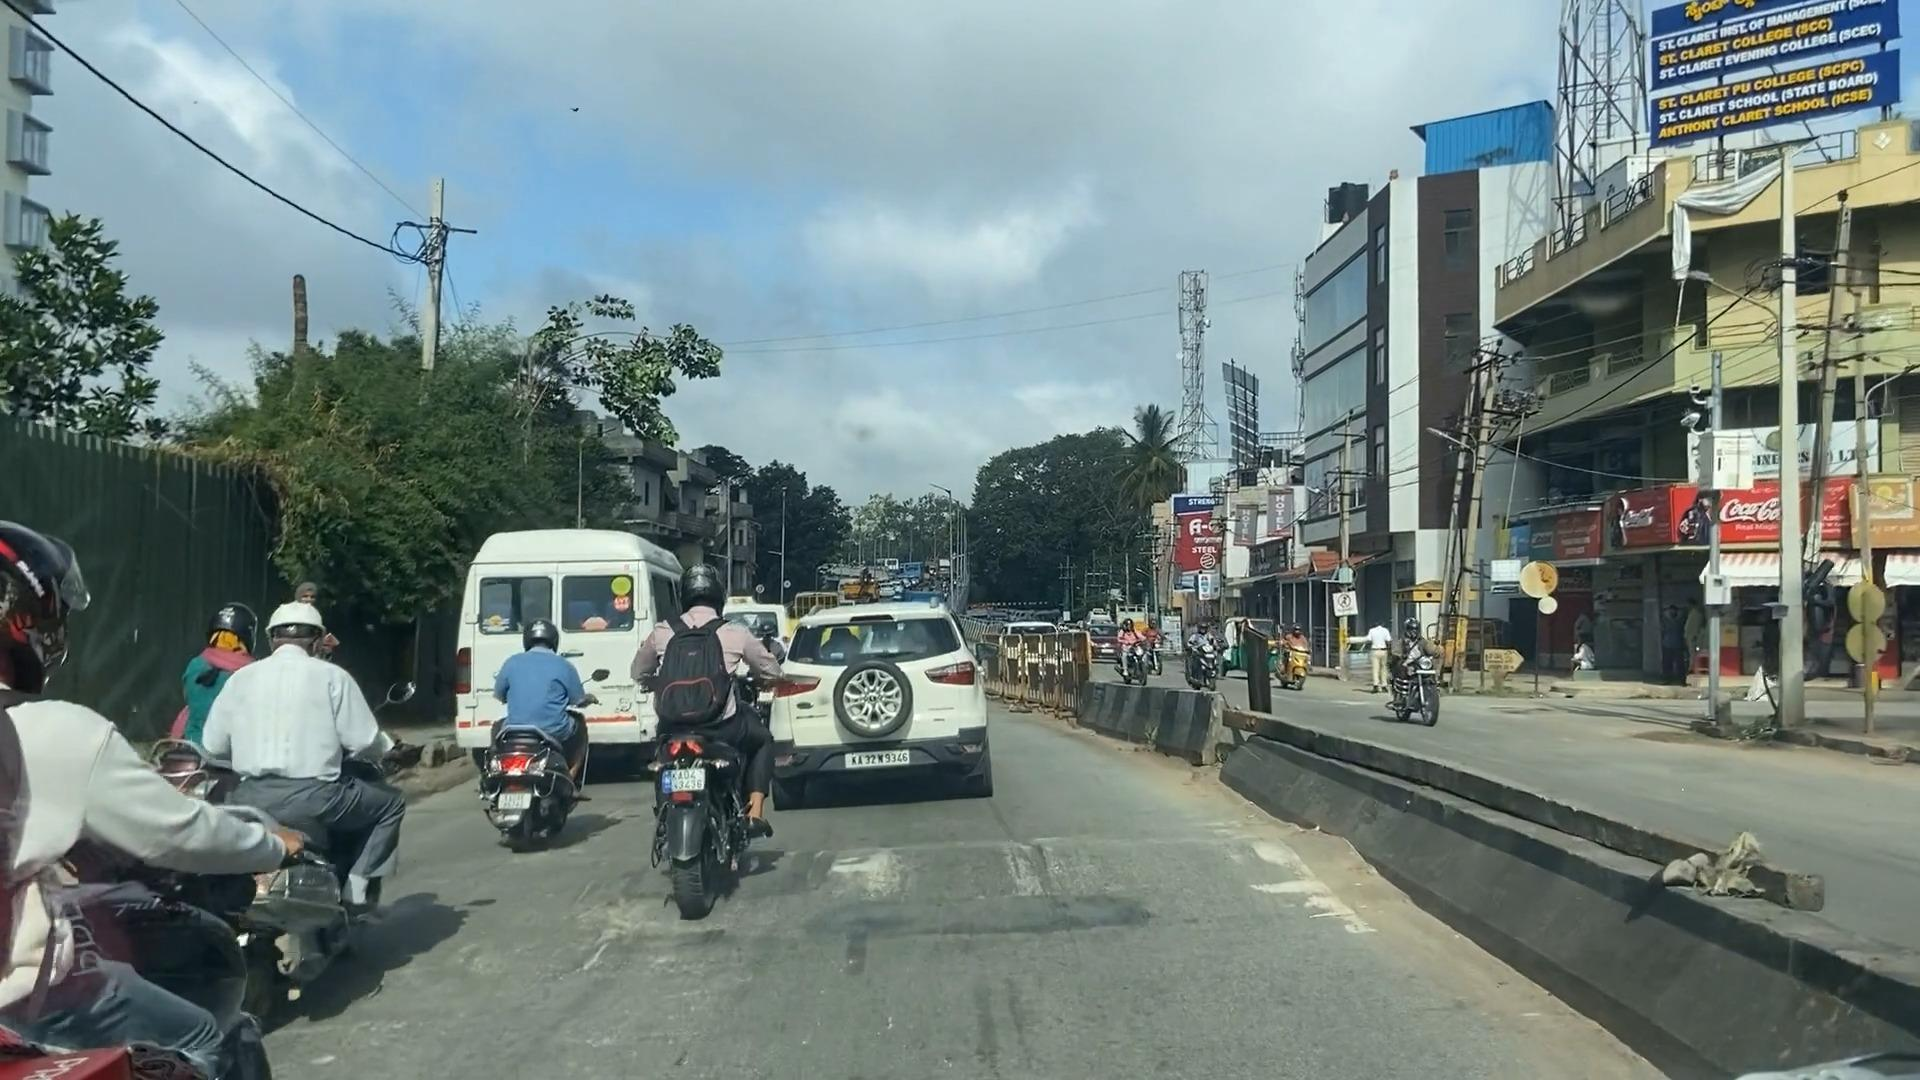LMV: (777, 611, 993, 795), (640, 588, 765, 895), (492, 640, 587, 827)
SpeedBump: (413, 810, 1393, 922)
